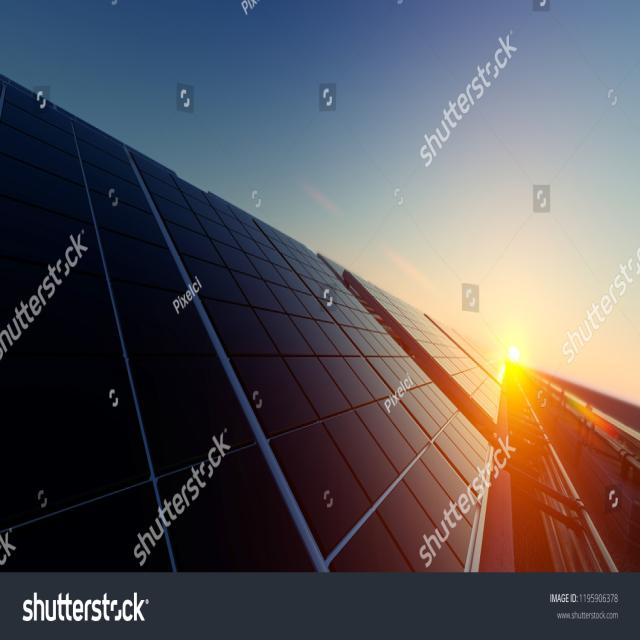clean-solar-panel: (1, 75, 504, 571)
